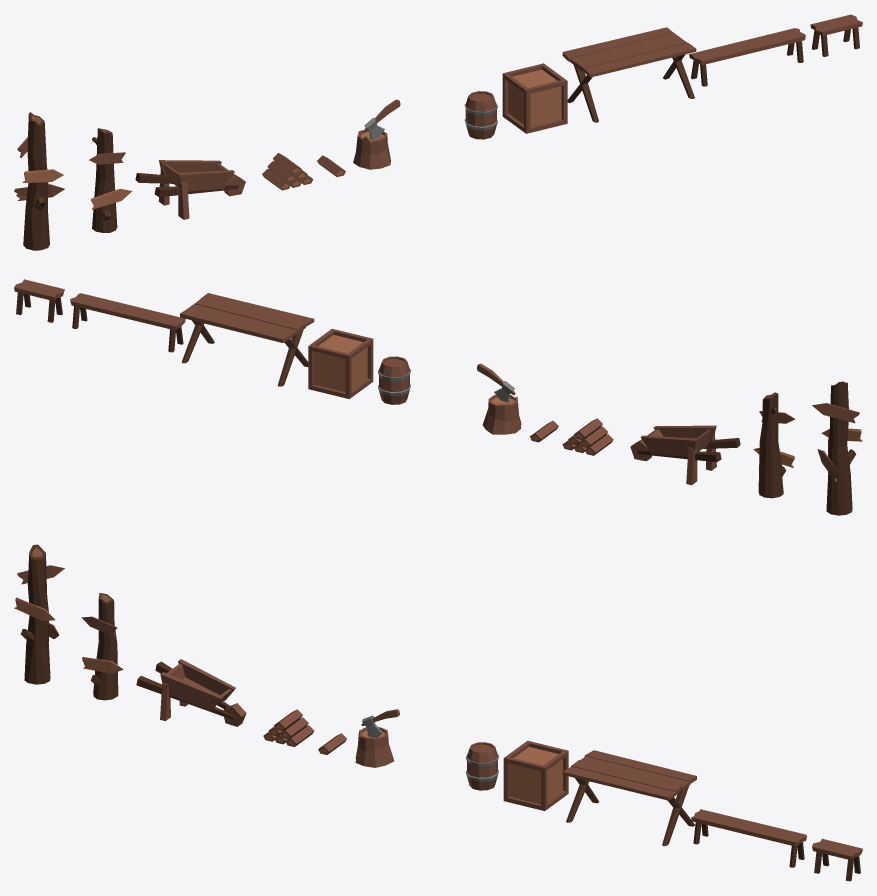
Rendered from Props_Houses.fbx.
3 views of the same model, one above another, from view 1: azimuth 30°, elevation 25°; view 2: azimuth 150°, elevation 25°; view 3: azimuth 330°, elevation 25° (orthographic).
Parts seen in each view (by area): view 1: Table, Box, Pointer_02, Truck, Pointer_01, Chai_02, Axe_Stump, Barrel, Chai_01, Firewood_01; view 2: Table, Box, Pointer_02, Truck, Pointer_01, Chai_02, Axe_Stump, Barrel, Chai_01, Firewood_01; view 3: Table, Box, Pointer_02, Truck, Pointer_01, Chai_02, Axe_Stump, Barrel, Chai_01, Firewood_01.
Boxes of the visible parts, left/top/right/bottom form: Table: left=562, top=27, right=696, bottom=122; Box: left=502, top=63, right=567, bottom=133; Pointer_02: left=14, top=112, right=64, bottom=250; Truck: left=135, top=160, right=245, bottom=219; Pointer_01: left=89, top=128, right=132, bottom=232; Chai_02: left=689, top=28, right=805, bottom=86; Axe_Stump: left=353, top=99, right=400, bottom=169; Barrel: left=464, top=91, right=497, bottom=139; Chai_01: left=810, top=14, right=862, bottom=56; Firewood_01: left=262, top=153, right=313, bottom=190; Table: left=180, top=293, right=314, bottom=386; Box: left=308, top=328, right=373, bottom=398; Pointer_02: left=812, top=381, right=862, bottom=515; Truck: left=630, top=425, right=740, bottom=485; Pointer_01: left=753, top=392, right=795, bottom=498; Chai_02: left=70, top=293, right=185, bottom=352; Axe_Stump: left=477, top=363, right=521, bottom=434; Barrel: left=377, top=356, right=411, bottom=404; Chai_01: left=14, top=279, right=64, bottom=322; Firewood_01: left=562, top=418, right=613, bottom=455; Table: left=562, top=750, right=696, bottom=846; Box: left=503, top=740, right=568, bottom=810; Pointer_02: left=14, top=544, right=64, bottom=684; Truck: left=136, top=659, right=246, bottom=726; Pointer_01: left=81, top=593, right=123, bottom=700; Chai_02: left=691, top=809, right=806, bottom=867; Axe_Stump: left=355, top=709, right=399, bottom=767; Barrel: left=465, top=742, right=498, bottom=790; Chai_01: left=812, top=838, right=862, bottom=881; Firewood_01: left=263, top=709, right=314, bottom=746.
Bounding box in the file's own units: 2043 × 304 × 131.
